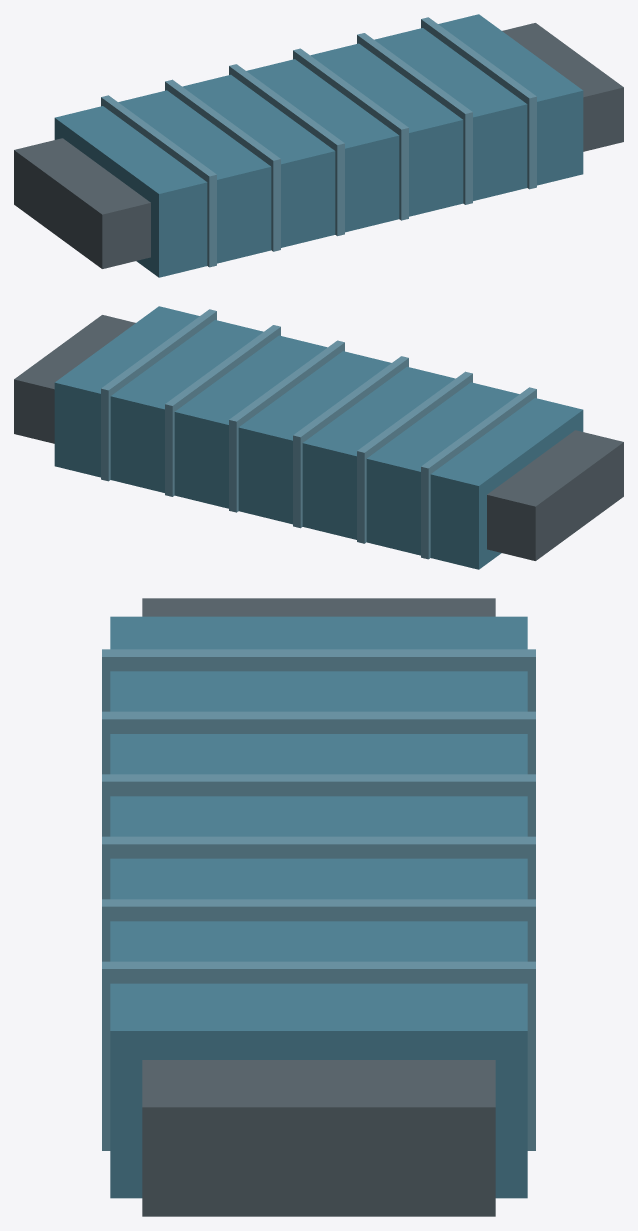
Rendered from esc_30a.glb.
3 views of the same model, one above another, from view 1: azimuth 30°, elevation 25°; view 2: azimuth 150°, elevation 25°; view 3: azimuth 270°, elevation 25° (orthographic). The views are drawn at different scales.
Parts seen in each view (by area): view 1: body, in, out, r3, r0, r2, r5, r1, r4; view 2: body, in, out, r3, r0, r2, r5, r1, r4; view 3: body, out, r5, r1, r3, r0, r2, r4, in.
Boxes of the visible parts, box(x1,y1,x2,y2) form: body: box(54, 14, 583, 277); in: box(14, 138, 150, 268); out: box(502, 23, 623, 151); r3: box(293, 48, 408, 220); r0: box(101, 95, 216, 267); r2: box(229, 64, 344, 236); r5: box(421, 17, 536, 189); r1: box(165, 79, 280, 251); r4: box(357, 33, 472, 204); body: box(54, 306, 583, 569); in: box(487, 430, 623, 560); out: box(14, 315, 135, 443); r3: box(229, 340, 344, 512); r0: box(421, 387, 536, 559); r2: box(293, 356, 408, 528); r5: box(101, 309, 216, 481); r1: box(357, 371, 472, 543); r4: box(165, 325, 280, 496); body: box(110, 616, 527, 1198); out: box(142, 1060, 495, 1216); r5: box(102, 961, 535, 1150); r1: box(102, 711, 535, 774); r3: box(102, 836, 535, 899); r0: box(102, 649, 535, 711); r2: box(102, 774, 535, 836); r4: box(102, 899, 535, 961); in: box(142, 598, 495, 616).
Size of the model in its own units: 1.5 by 0.25 by 0.54.
